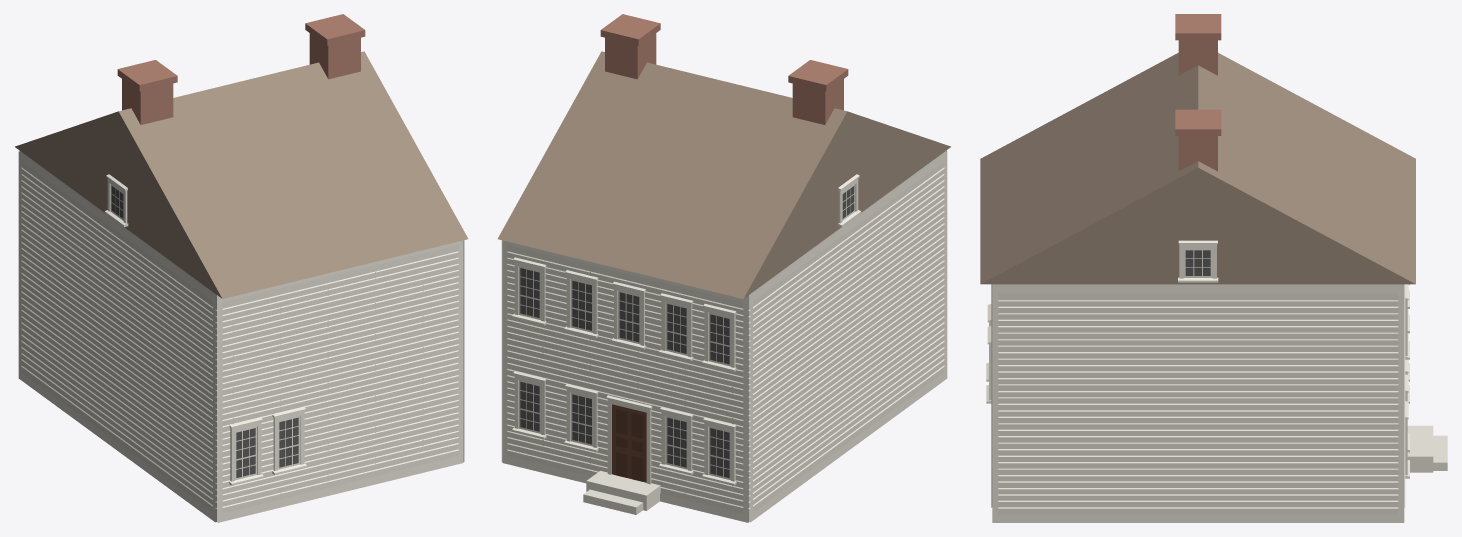
File: recon_1835_blk_washington_dearborn_d7_04__inferred_1835.glb
The picture shows the model from 3 angles, left to right: view 1: azimuth 30°, elevation 25°; view 2: azimuth 150°, elevation 25°; view 3: azimuth 270°, elevation 25°; orthographic projection. The views are drawn at different scales.
Parts seen in each view (by area): view 1: recon_1835_blk_washington_dearborn_d7_04__inferred_1835; view 2: recon_1835_blk_washington_dearborn_d7_04__inferred_1835; view 3: recon_1835_blk_washington_dearborn_d7_04__inferred_1835.
Boxes of the visible parts, bbox=[...] form: recon_1835_blk_washington_dearborn_d7_04__inferred_1835: bbox=[15, 14, 468, 522]; recon_1835_blk_washington_dearborn_d7_04__inferred_1835: bbox=[497, 14, 950, 522]; recon_1835_blk_washington_dearborn_d7_04__inferred_1835: bbox=[980, 14, 1447, 522].
Bounding box in the file's own units: 6.53 × 9.11 × 9.94.
